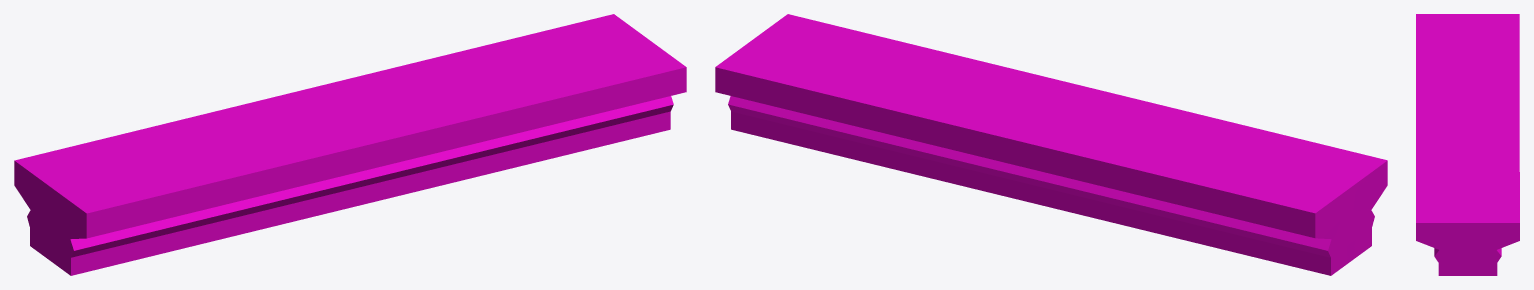
The model's file is platformtrain.fbx.
3 renders of one model, left to right at view 1: azimuth 30°, elevation 25°; view 2: azimuth 150°, elevation 25°; view 3: azimuth 270°, elevation 25°, orthographic. The views are drawn at different scales.
Parts seen in each view (by area): view 1: pCube476; view 2: pCube476; view 3: pCube476.
Part boxes in pixels (<box>): pCube476: <box>14,14,686,275</box>; pCube476: <box>715,14,1387,275</box>; pCube476: <box>1416,14,1519,275</box>.
Size of the model in its own units: 34.51 by 4.07 by 7.24.
